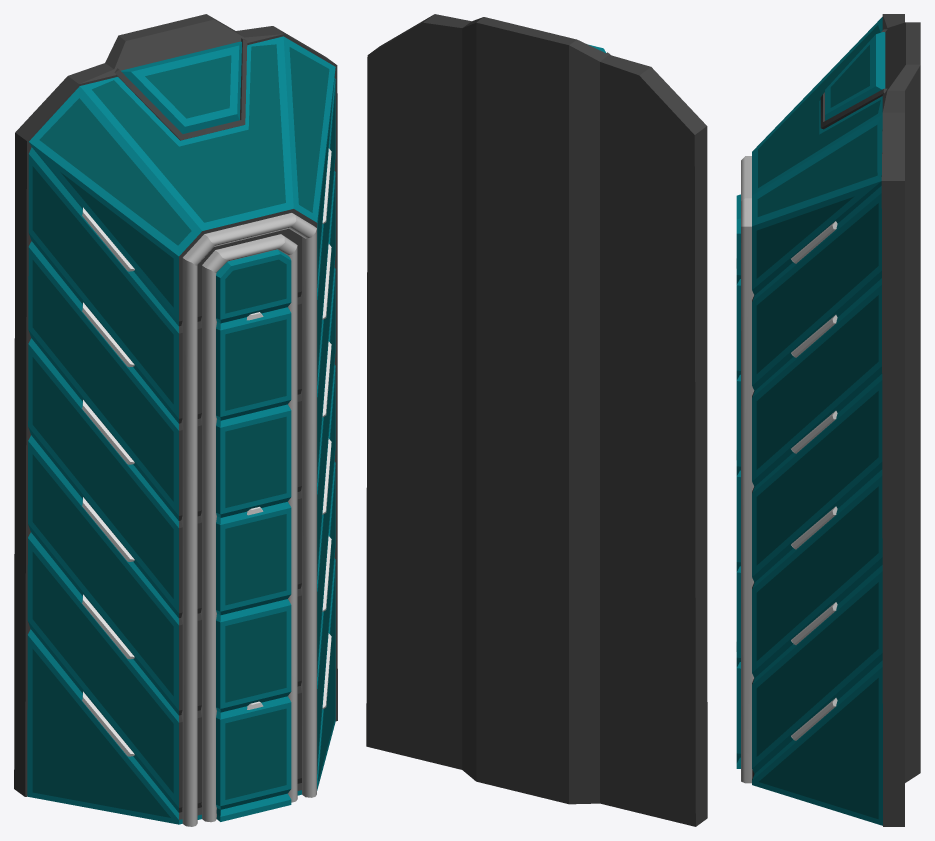
Rendered from building_007.fbx.
3 renders of one model, left to right at view 1: azimuth 30°, elevation 25°; view 2: azimuth 150°, elevation 25°; view 3: azimuth 270°, elevation 25°, orthographic. The views are drawn at different scales.
Parts seen in each view (by area): view 1: building_007; view 2: building_007; view 3: building_007.
Boxes of the visible parts, <box> form: building_007: <box>14,14,337,826</box>; building_007: <box>366,14,707,826</box>; building_007: <box>736,14,920,826</box>.
Size of the model in its own units: 1254 by 651 by 2760.
